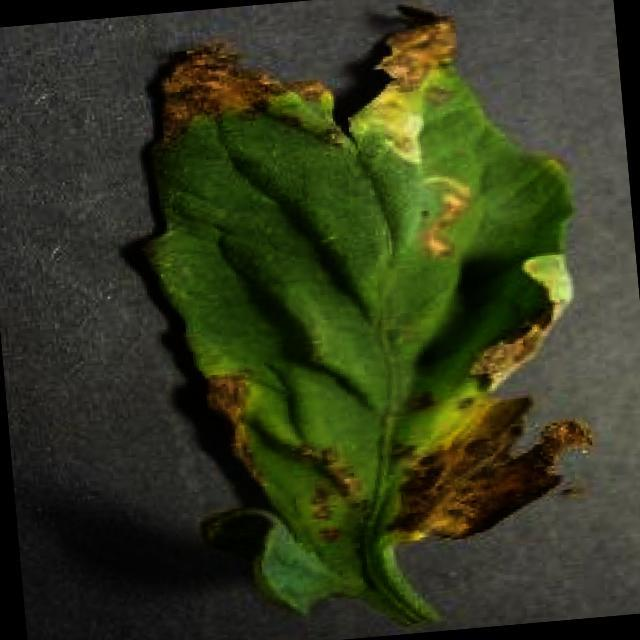Tomato bacterial spot leaf: (114, 0, 609, 624)
